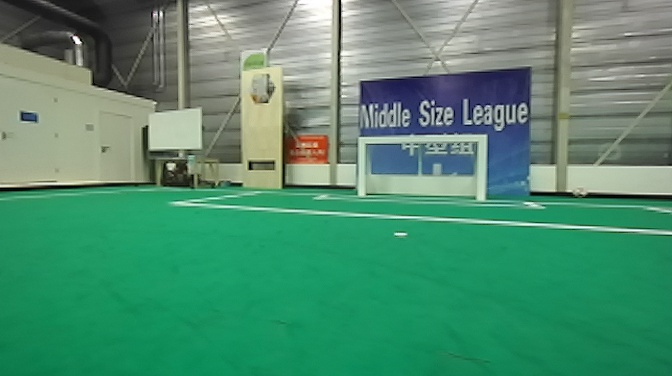ball: (572, 186, 589, 199)
goalpost: (473, 132, 489, 206), (354, 133, 369, 199)
